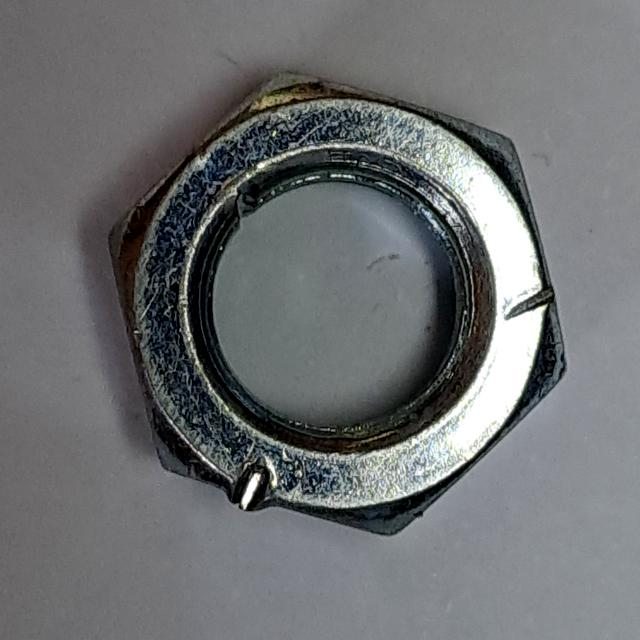Scratches: (91, 64, 578, 553)
